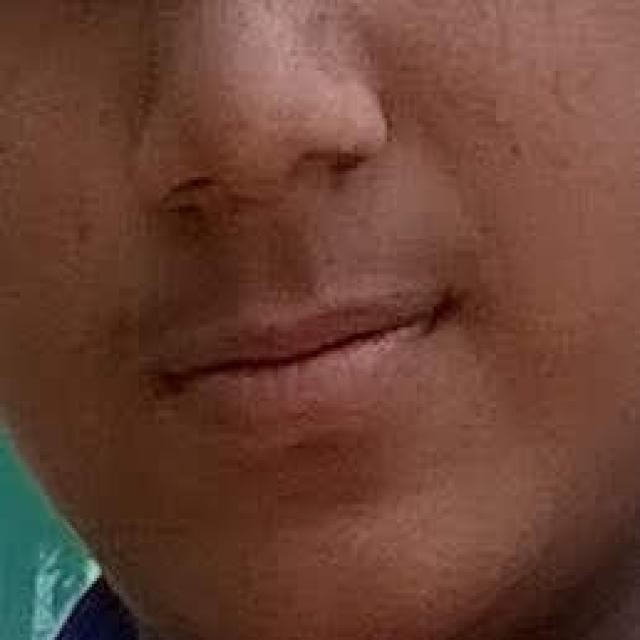normal_tongue: (99, 220, 504, 500)
